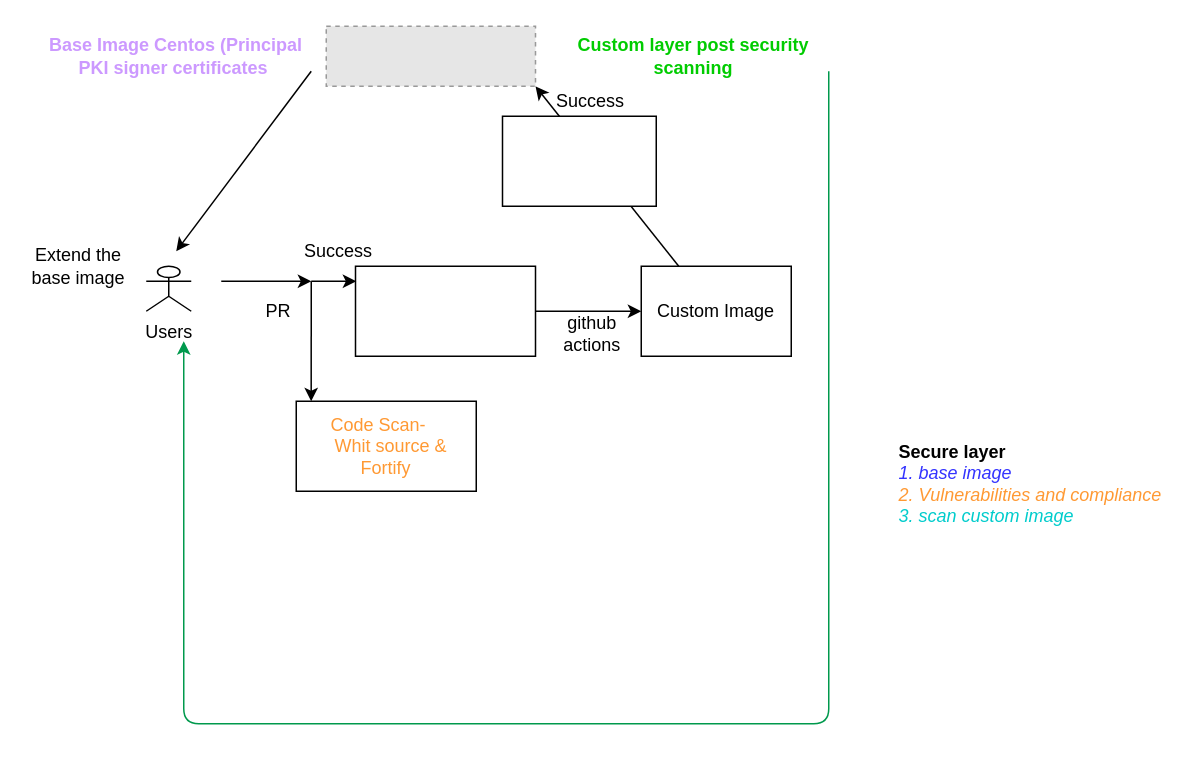
Some shapes in this 1191 by 762 pixel diagram are drawn without their labels. Grey dashed boxes stand in for pictures. The box of each missing label's shape, as (x1, y1, x2, y2) in pixels:
Github: (354, 265, 536, 356)
Jfrog scanner(custom image): (501, 115, 656, 206)
